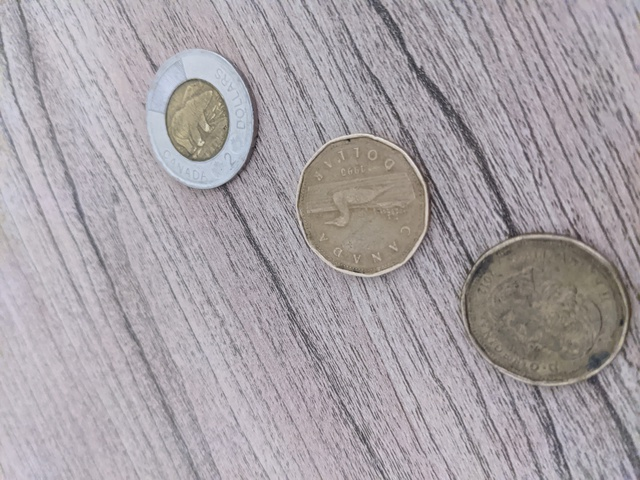loonie: (458, 214, 637, 396), (293, 118, 428, 283)
twonie: (133, 44, 266, 189)
